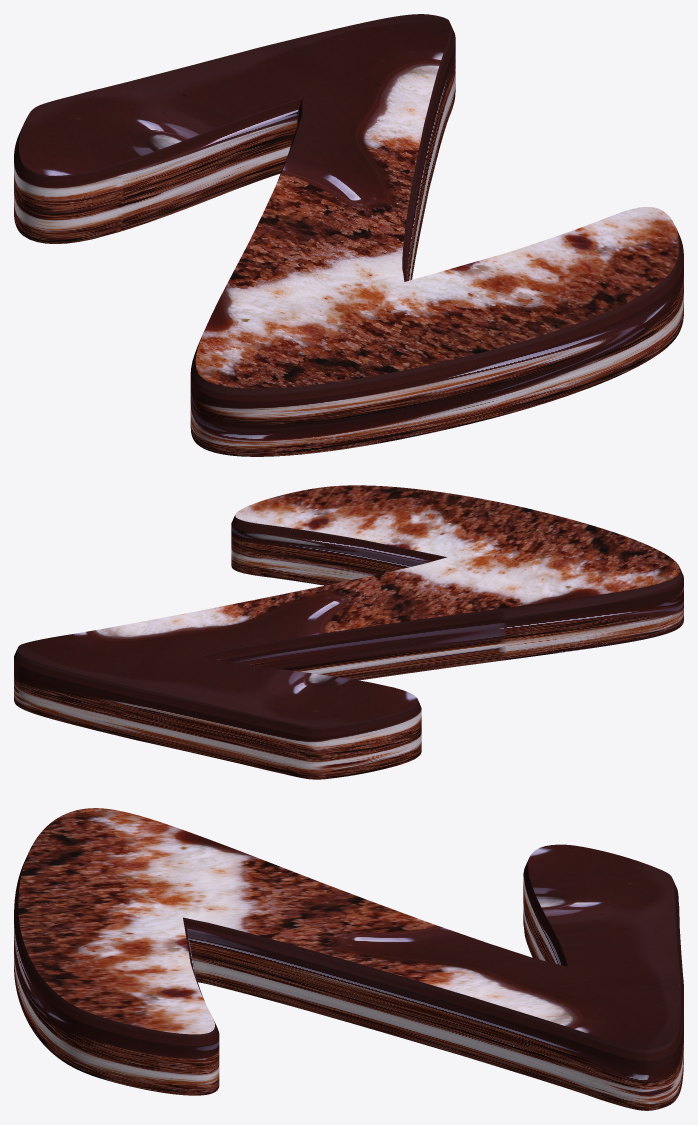
File: myZ.FBX
3 views of the same model, one above another, from view 1: azimuth 30°, elevation 25°; view 2: azimuth 150°, elevation 25°; view 3: azimuth 270°, elevation 25° (orthographic). The views are drawn at different scales.
Parts seen in each view (by area): view 1: myB; view 2: myB; view 3: myB.
Part boxes in pixels (x1,y1,x2,y2): myB: [14, 14, 683, 456]; myB: [14, 485, 683, 779]; myB: [14, 808, 683, 1110].
Size of the model in its own units: 53.1 by 6 by 61.3.
Materials: 1 (1 with a texture image).
